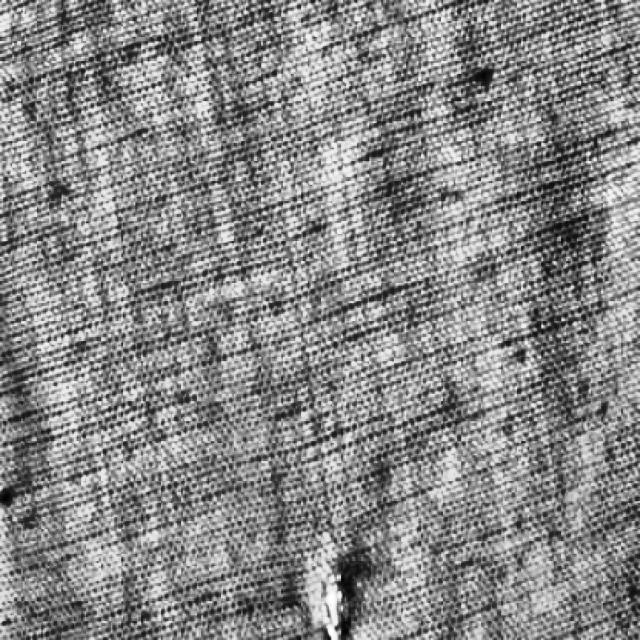hole: (302, 540, 368, 640)
